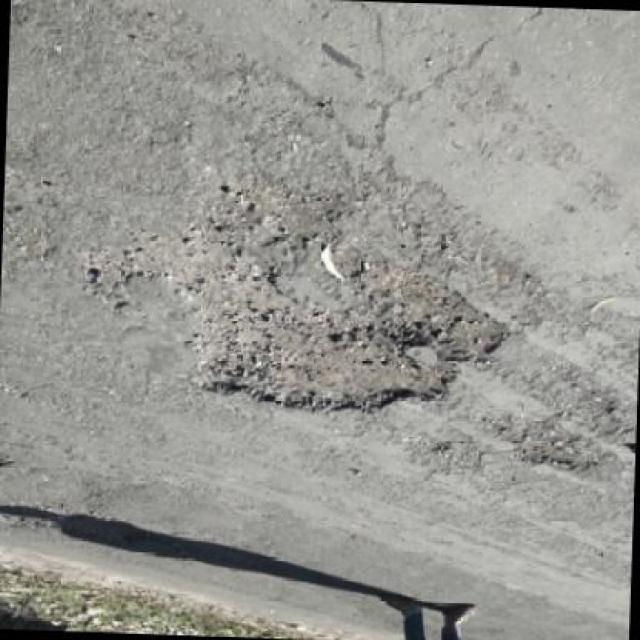pothole1: (72, 166, 518, 429), (509, 418, 606, 478)
